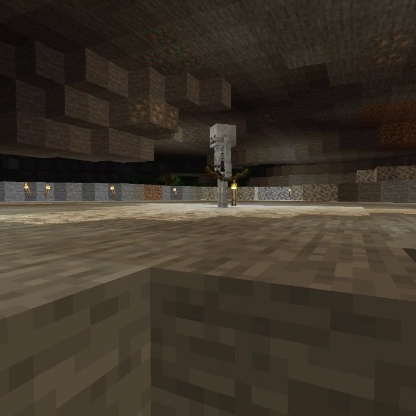skeleton: (200, 120, 253, 211)
